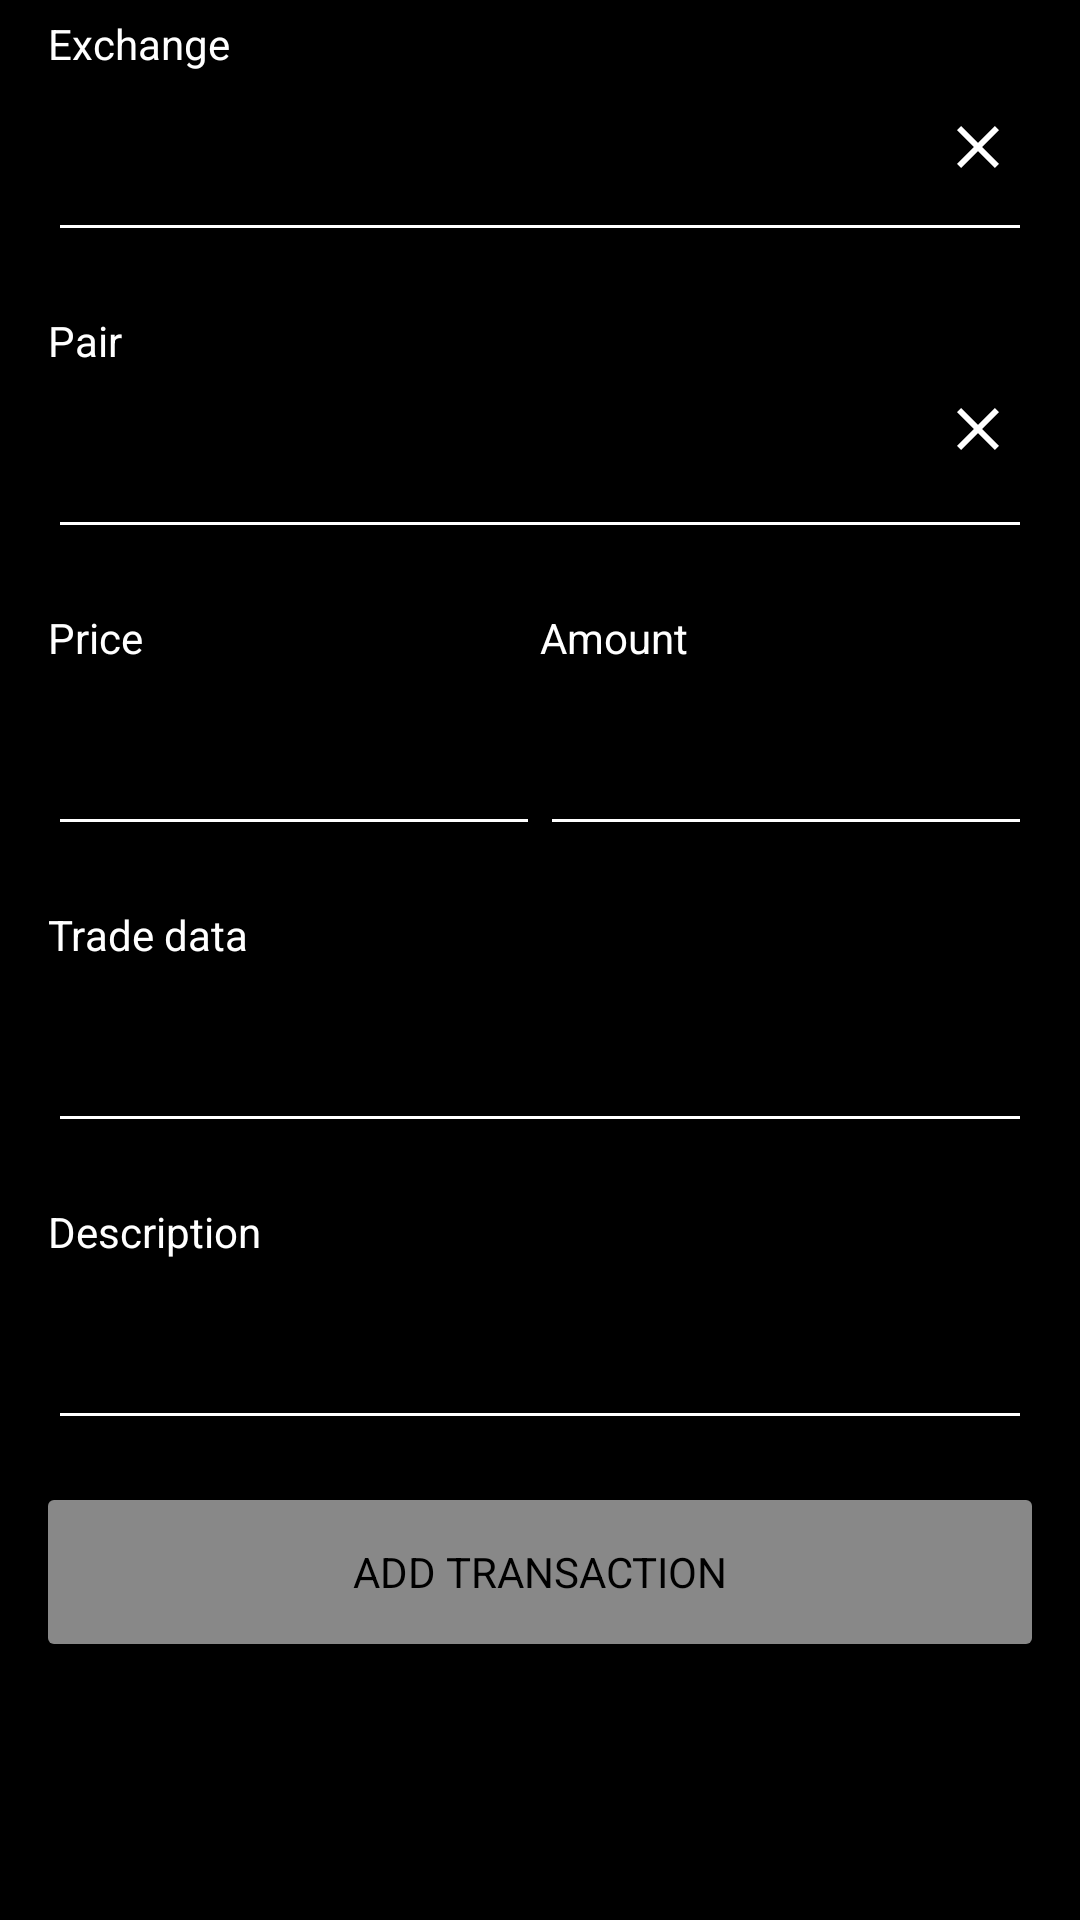

Icons on this 1080x1920 Android screen, each with its box as bbox=(x1, y1, x2, y2):
Clear: bbox=(957, 126, 999, 168), bbox=(957, 408, 999, 450)
